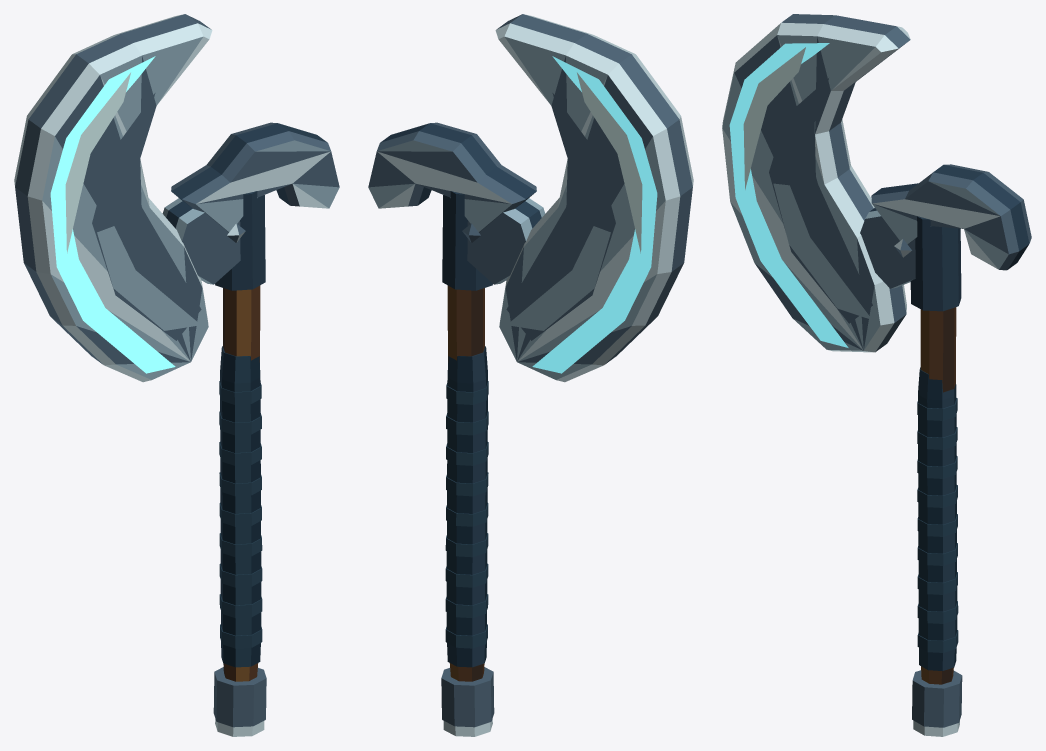
Rendered from ice_axe.glb.
3 renders of one model, left to right at view 1: azimuth 30°, elevation 25°; view 2: azimuth 150°, elevation 25°; view 3: azimuth 330°, elevation 25°, orthographic. The views are drawn at different scales.
Visible parts, largest first — view 1: 06_Crescent, 08_Inner_Facets, 09_Hooked_Poll, 07_Frozen_Edge, 02_Grip, 05_Socket, 03_Grip_Bands, 04_Pommel, 01_Shaft; view 2: 06_Crescent, 08_Inner_Facets, 09_Hooked_Poll, 07_Frozen_Edge, 02_Grip, 05_Socket, 03_Grip_Bands, 04_Pommel, 01_Shaft; view 3: 06_Crescent, 08_Inner_Facets, 09_Hooked_Poll, 07_Frozen_Edge, 02_Grip, 05_Socket, 03_Grip_Bands, 01_Shaft, 04_Pommel.
Part boxes in pixels (<box>): 06_Crescent: <box>14,14,212,382</box>; 08_Inner_Facets: <box>92,93,201,340</box>; 09_Hooked_Poll: <box>171,122,339,232</box>; 07_Frozen_Edge: <box>50,56,175,373</box>; 02_Grip: <box>220,346,261,667</box>; 05_Socket: <box>162,191,265,290</box>; 03_Grip_Bands: <box>219,381,262,648</box>; 04_Pommel: <box>213,667,266,736</box>; 01_Shaft: <box>223,285,260,681</box>; 06_Crescent: <box>495,14,693,382</box>; 08_Inner_Facets: <box>506,93,615,340</box>; 09_Hooked_Poll: <box>368,122,536,232</box>; 07_Frozen_Edge: <box>532,56,657,373</box>; 02_Grip: <box>446,346,487,667</box>; 05_Socket: <box>442,191,545,290</box>; 03_Grip_Bands: <box>445,381,488,648</box>; 04_Pommel: <box>441,667,494,736</box>; 01_Shaft: <box>447,285,484,681</box>; 06_Crescent: <box>722,14,910,352</box>; 08_Inner_Facets: <box>769,78,872,323</box>; 09_Hooked_Poll: <box>871,164,1031,270</box>; 07_Frozen_Edge: <box>729,43,848,347</box>; 02_Grip: <box>918,367,957,670</box>; 05_Socket: <box>860,208,961,311</box>; 03_Grip_Bands: <box>917,398,958,652</box>; 01_Shaft: <box>920,307,956,684</box>; 04_Pommel: <box>912,670,962,736</box>.
Size of the model in its own units: 0.5508 by 1.22 by 0.116.
